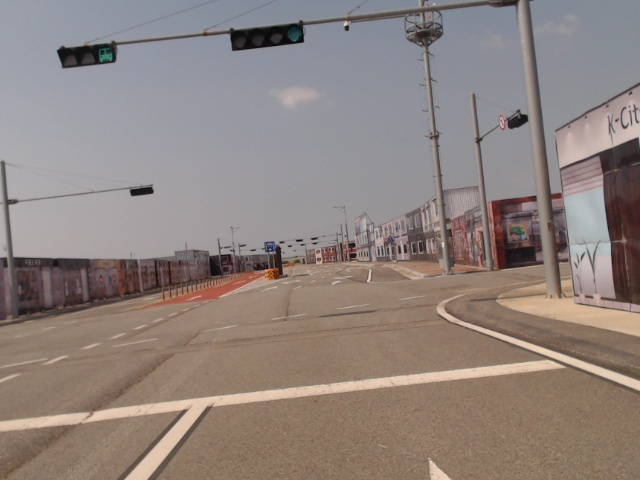straight_green_4: (231, 25, 305, 48)
